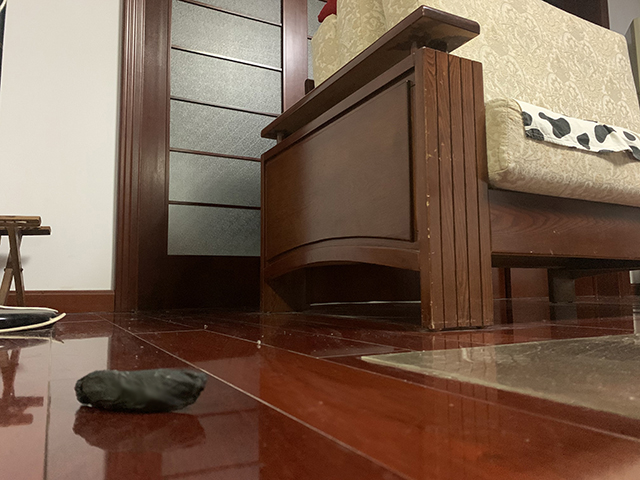feces: (74, 368, 209, 412)
sofa: (259, 1, 640, 334)
stool: (1, 214, 52, 310)
wire: (1, 304, 66, 333)
